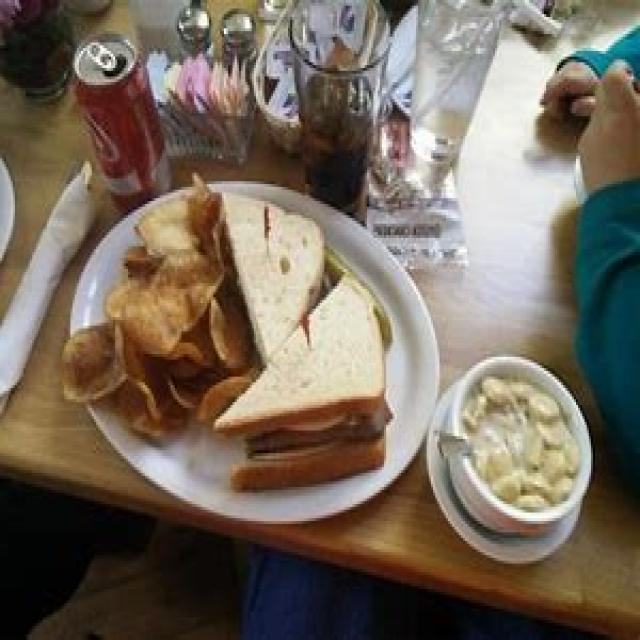Sandwich: (224, 206, 386, 478)
